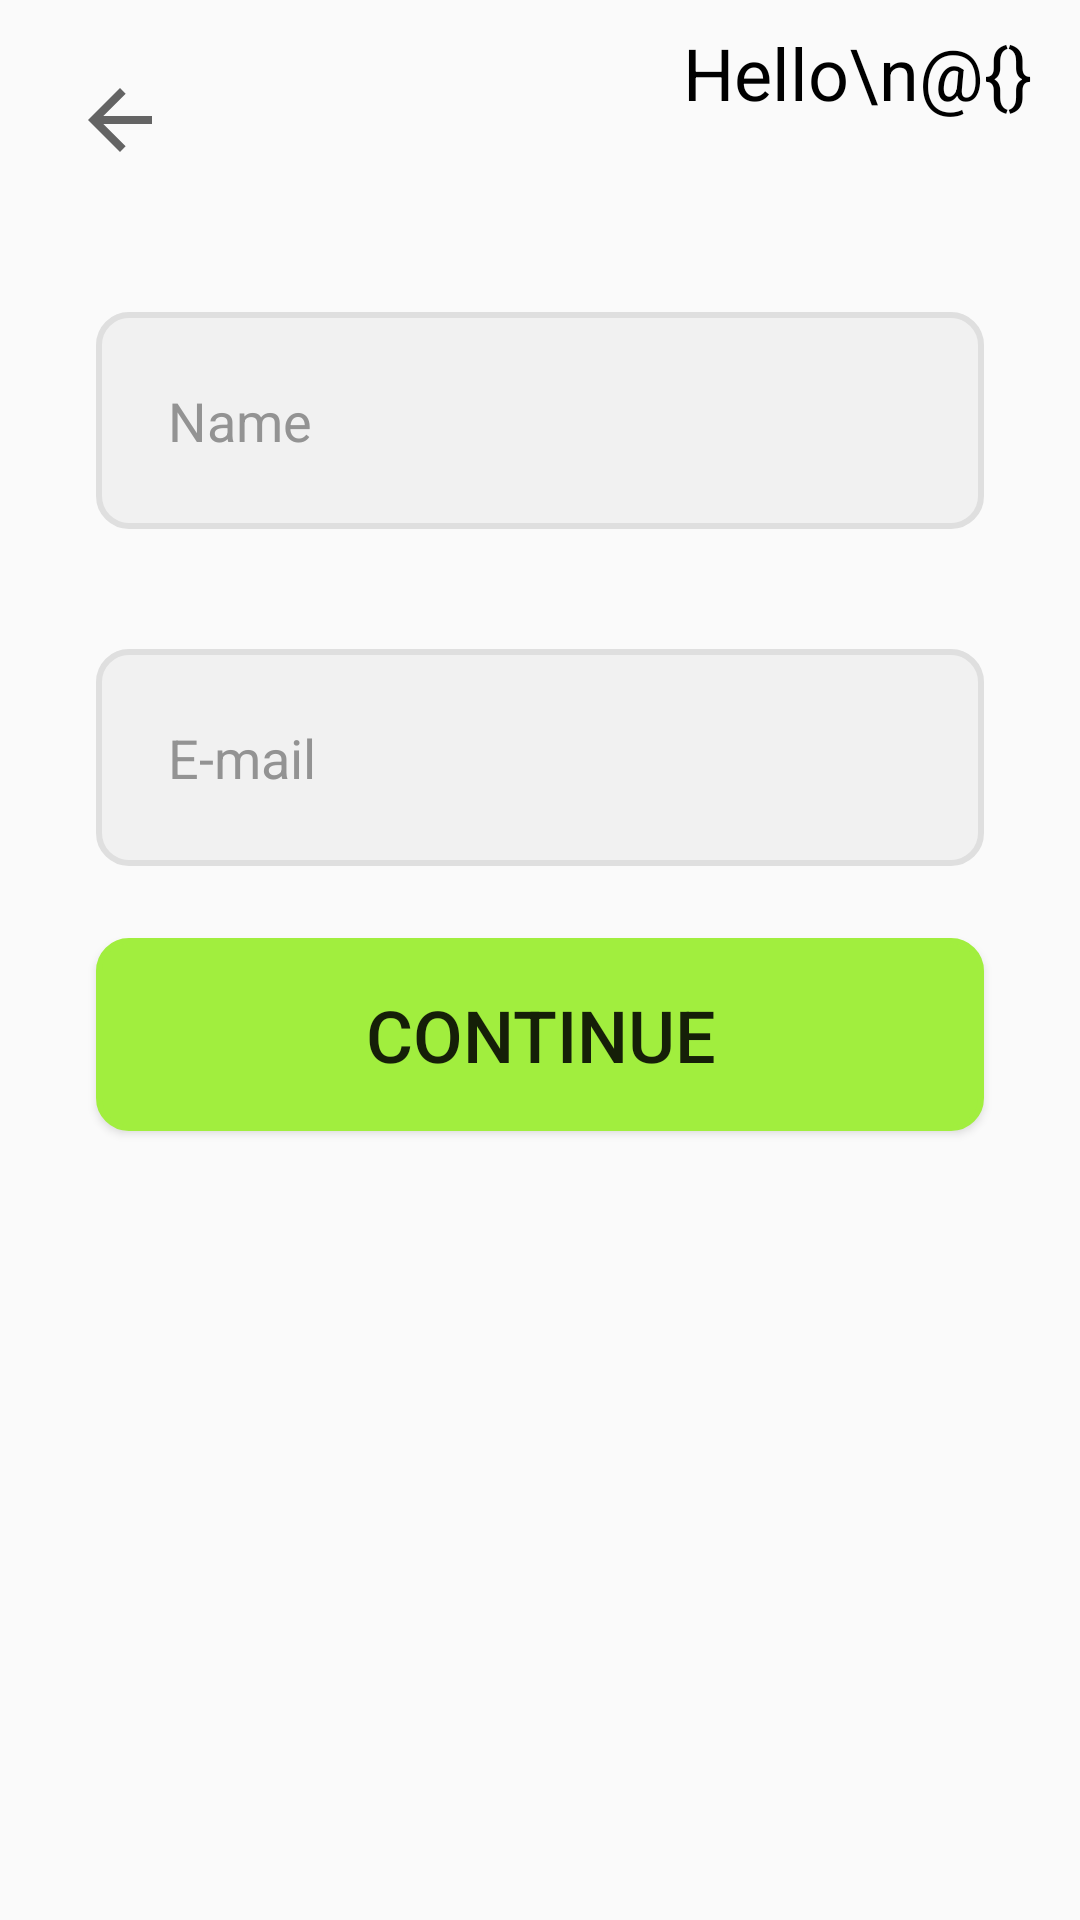

Icon bounding boxes for this 1080px x 1920px phone screenshot, format {"x1": x1, "y1": y1, "x2": x2, "y2": y2}:
backarrow: {"x1": 88, "y1": 88, "x2": 152, "y2": 152}
